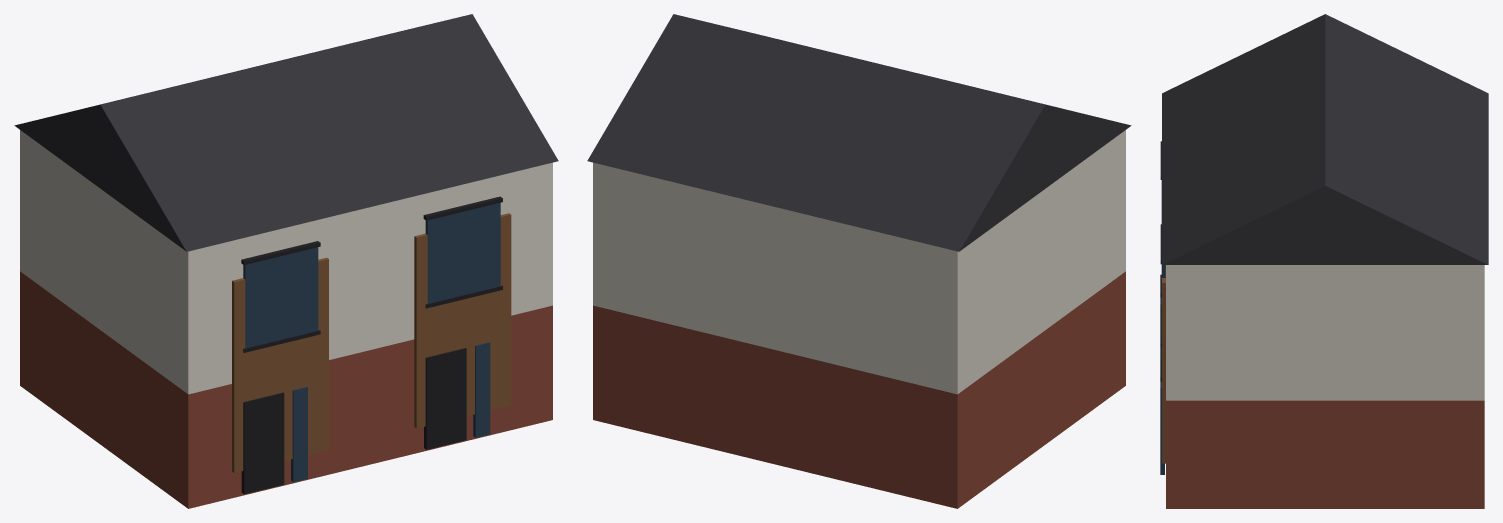
The model's file is building_london_s4_modern_terrace.glb.
3 renders of one model, left to right at view 1: azimuth 30°, elevation 25°; view 2: azimuth 150°, elevation 25°; view 3: azimuth 270°, elevation 25°, orthographic. The views are drawn at different scales.
Parts seen in each view (by area): view 1: building_london_s4_modern_terrace; view 2: building_london_s4_modern_terrace; view 3: building_london_s4_modern_terrace.
Boxes of the visible parts, bbox=[...] form: building_london_s4_modern_terrace: bbox=[14, 14, 558, 508]; building_london_s4_modern_terrace: bbox=[587, 14, 1131, 508]; building_london_s4_modern_terrace: bbox=[1160, 14, 1488, 508].
Size of the model in its own units: 10.2 by 9 by 8.24.
1 material, 1 textured.
